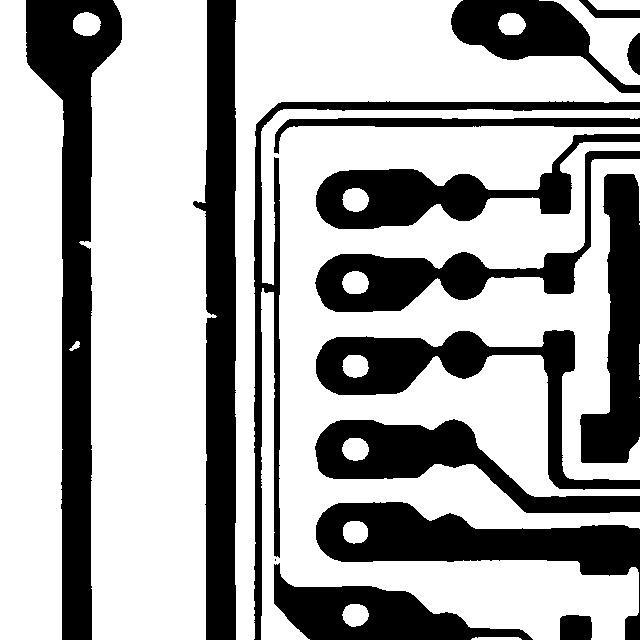mousebite: (69, 231, 102, 258), (193, 301, 226, 327)
open: (261, 546, 293, 574), (261, 143, 290, 167)
pin-hole: (59, 331, 89, 360)
short: (249, 273, 286, 302)
spur: (183, 191, 217, 220)
